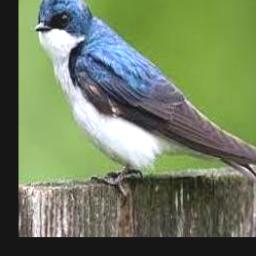Swallow: (34, 0, 256, 188)
